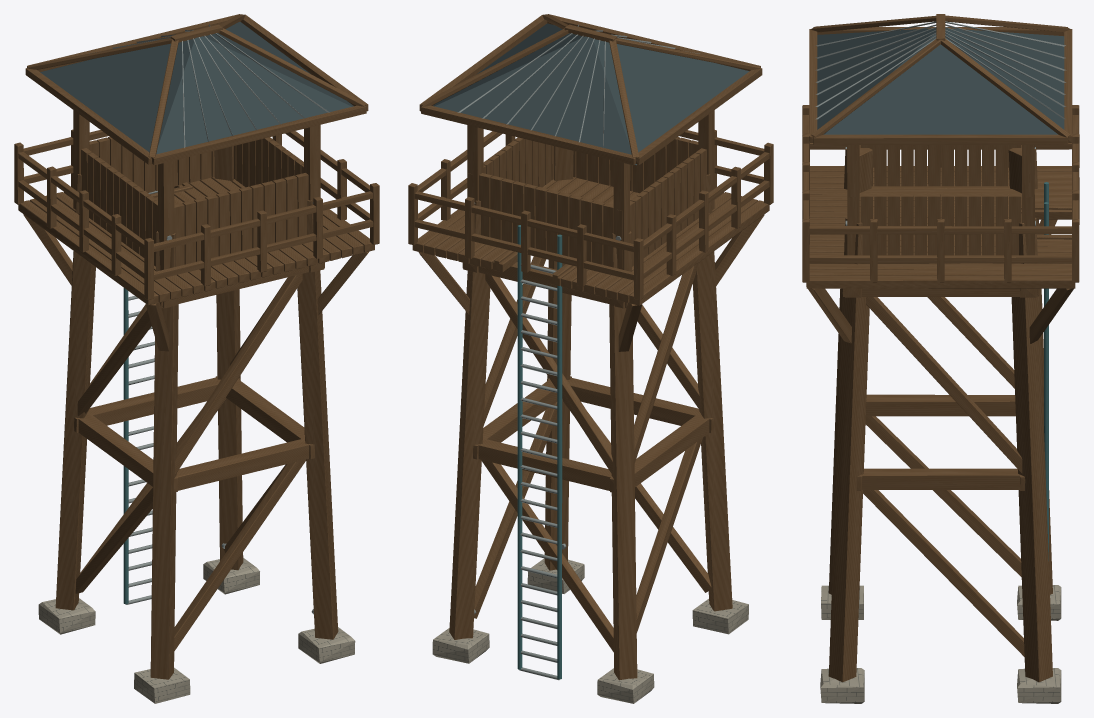
3 views of the same model, side by side, from view 1: azimuth 30°, elevation 25°; view 2: azimuth 150°, elevation 25°; view 3: azimuth 270°, elevation 25° (orthographic). The views are drawn at different scales.
Visible parts, largest first — view 1: static_assembly_wood_001, static_assembly_dark_001, static_assembly_stone_001, static_assembly_bolt_001, static_assembly_steel_001; view 2: static_assembly_wood_001, static_assembly_dark_001, static_assembly_bolt_001, static_assembly_stone_001, static_assembly_steel_001; view 3: static_assembly_wood_001, static_assembly_dark_001, static_assembly_bolt_001, static_assembly_stone_001, static_assembly_steel_001.
Part boxes in pixels (<box>): static_assembly_wood_001: <box>14,14,379,679</box>; static_assembly_dark_001: <box>40,22,353,154</box>; static_assembly_stone_001: <box>38,558,355,703</box>; static_assembly_bolt_001: <box>89,24,329,614</box>; static_assembly_steel_001: <box>123,288,128,604</box>; static_assembly_wood_001: <box>408,14,773,680</box>; static_assembly_dark_001: <box>433,23,749,165</box>; static_assembly_bolt_001: <box>457,24,699,680</box>; static_assembly_stone_001: <box>432,558,748,703</box>; static_assembly_steel_001: <box>517,225,562,679</box>; static_assembly_wood_001: <box>802,14,1079,682</box>; static_assembly_dark_001: <box>817,28,1064,134</box>; static_assembly_bolt_001: <box>815,21,1066,226</box>; static_assembly_stone_001: <box>820,585,1061,703</box>; static_assembly_steel_001: <box>1044,182,1048,560</box>.
Bounding box in the file's own units: 4 × 10 × 4.
Materials: 5 (3 with a texture image).
